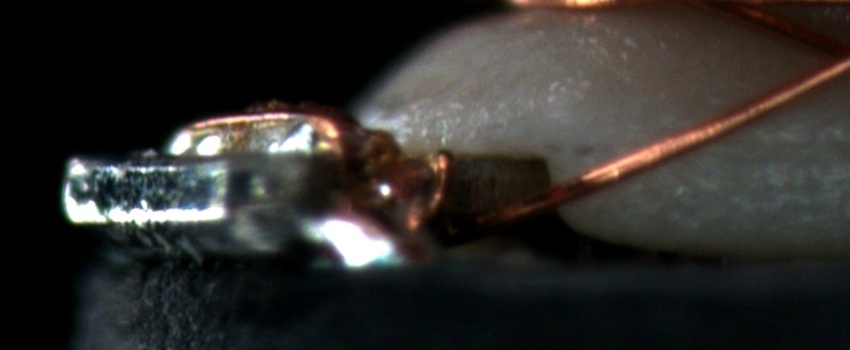DL: (639, 110, 849, 174)
TE: (176, 96, 458, 236)
